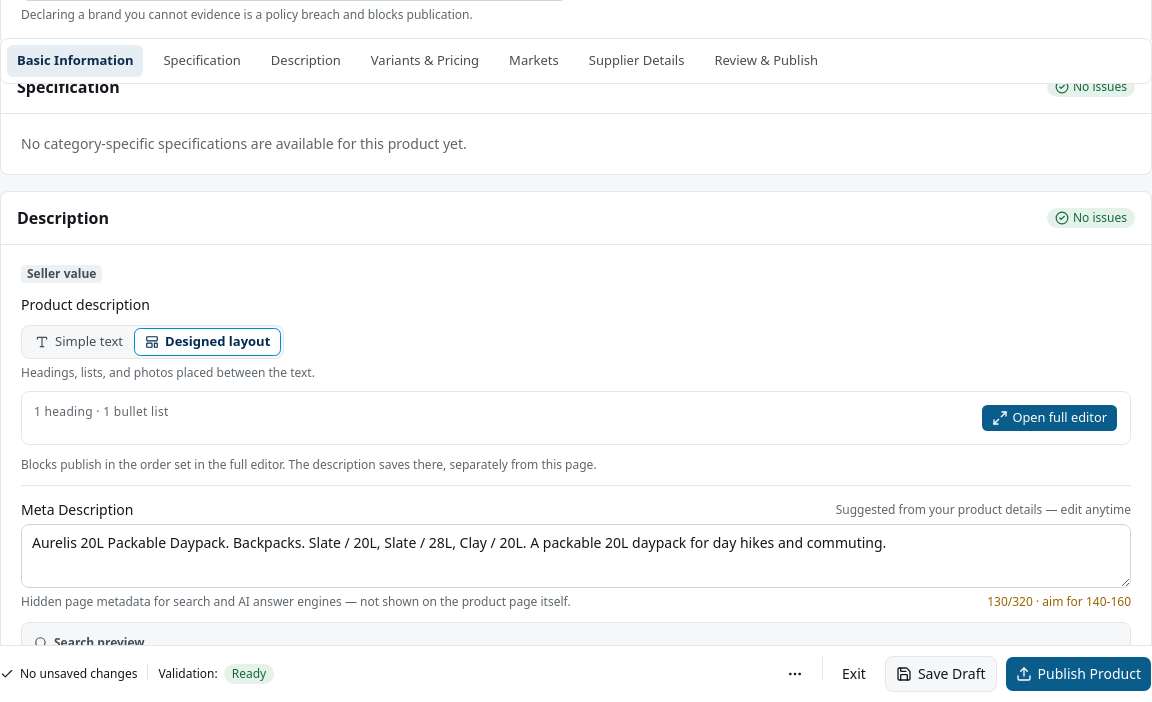
Test: Description section - simple text and designed layout › refuses to flatten a designed document without naming what it costs
This screenshot has width=1152, height=702.
(page scrolled)
Click the button "Simple text": (79, 342) [24,328,134,356]
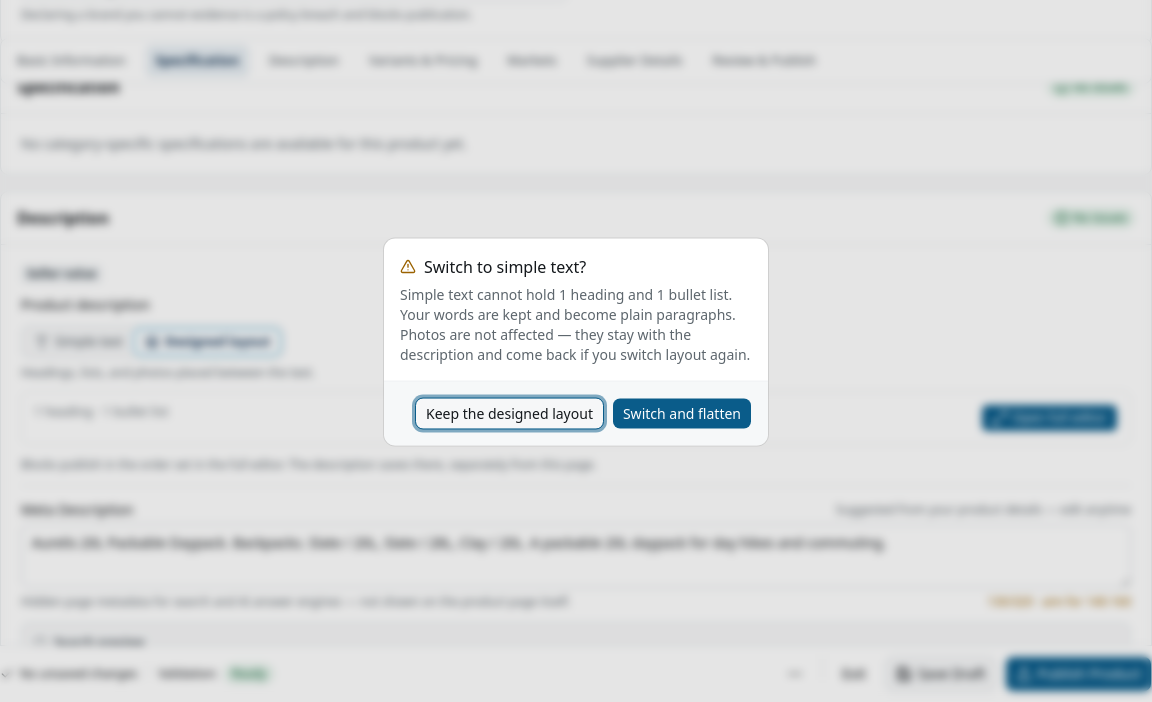
Expected: the dialog shows "1 heading", [400,284,750,364]
Expected: the dialog shows "1 bullet list", [400,284,750,364]
